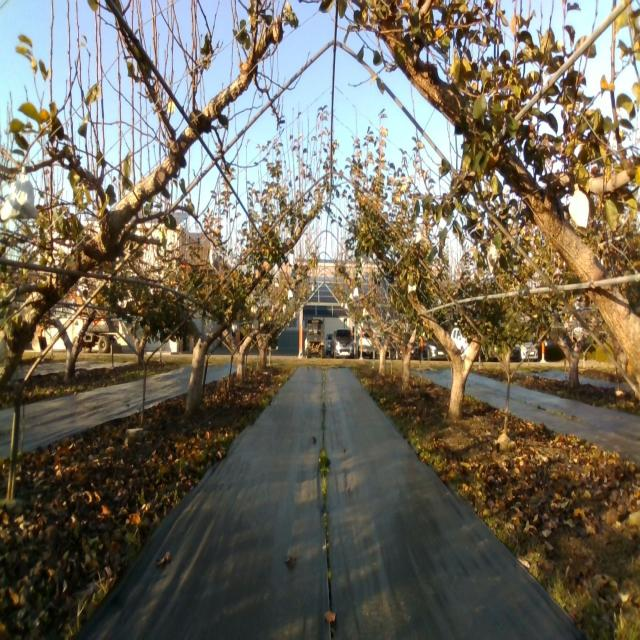pearbags: (0, 164, 39, 220), (568, 183, 589, 231), (487, 241, 501, 276), (415, 222, 430, 245), (209, 242, 220, 270)
